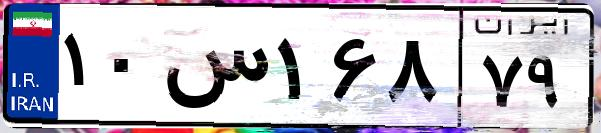0: (110, 28, 158, 98)
1: (270, 28, 330, 110), (57, 26, 110, 100)
6: (330, 28, 385, 110)
7: (475, 38, 525, 113)
8: (385, 28, 445, 110)
9: (525, 38, 570, 115)
س: (158, 20, 270, 120)
